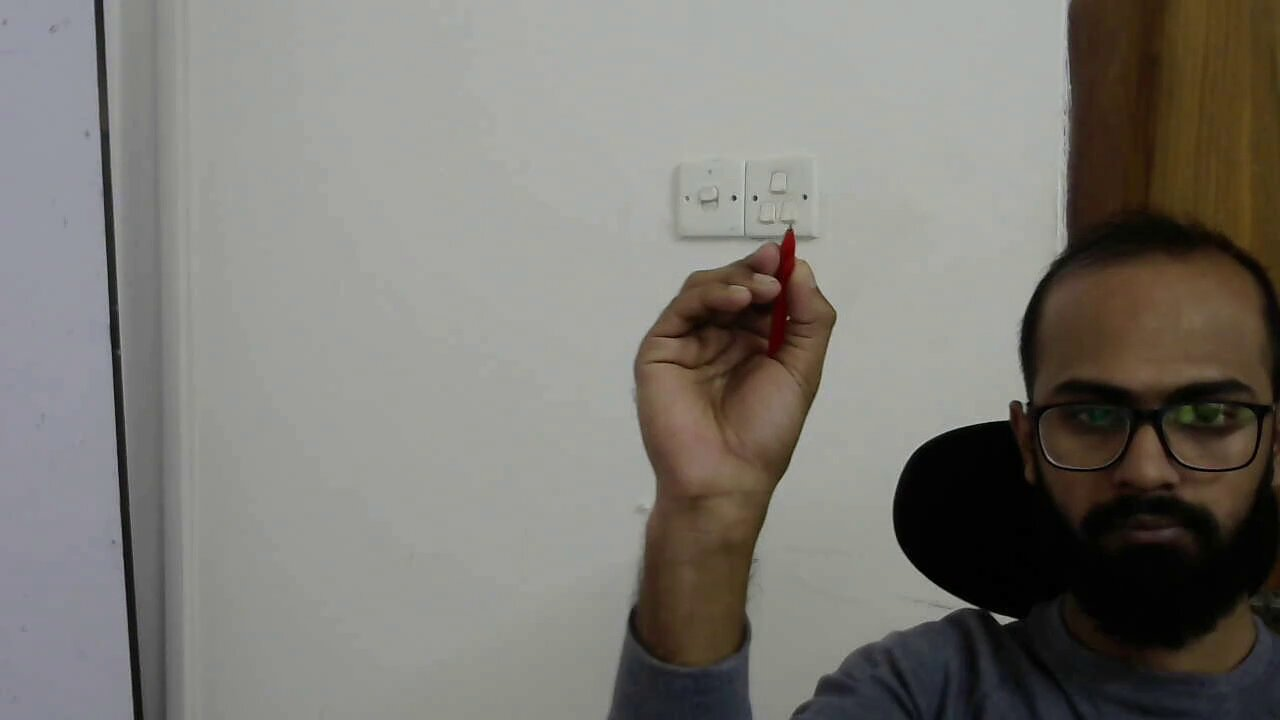pointer: (634, 239, 836, 404)
